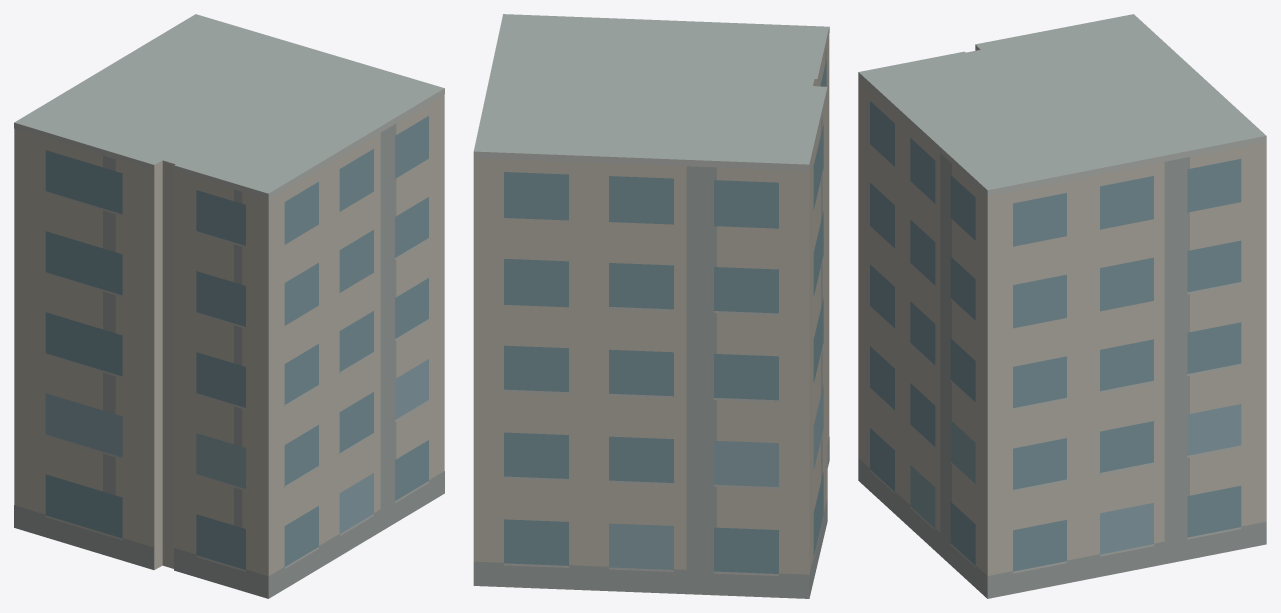
File: survey-upis-32972299.glb
3 renders of one model, left to right at view 1: azimuth 30°, elevation 25°; view 2: azimuth 150°, elevation 25°; view 3: azimuth 270°, elevation 25°, orthographic. The views are drawn at different scales.
Parts seen in each view (by area): view 1: survey-upis-32972299.tmp; view 2: survey-upis-32972299.tmp; view 3: survey-upis-32972299.tmp.
Boxes of the visible parts, bbox=[...] form: survey-upis-32972299.tmp: bbox=[14, 14, 444, 598]; survey-upis-32972299.tmp: bbox=[473, 14, 829, 598]; survey-upis-32972299.tmp: bbox=[858, 14, 1266, 598].
Size of the model in its own units: 15.04 by 16.25 by 14.72.
